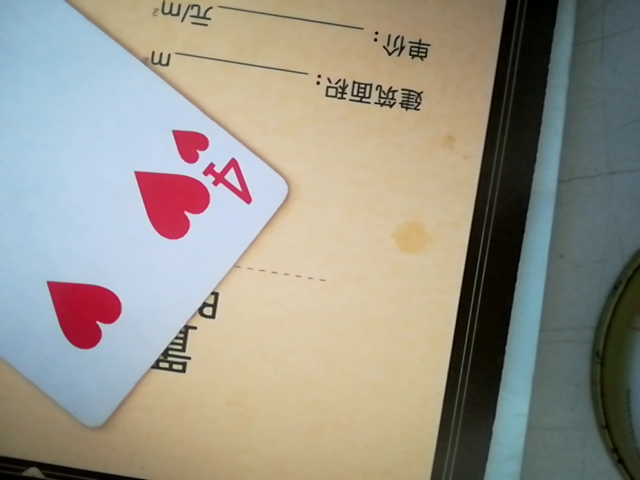hx 4: (0, 0, 289, 429)
